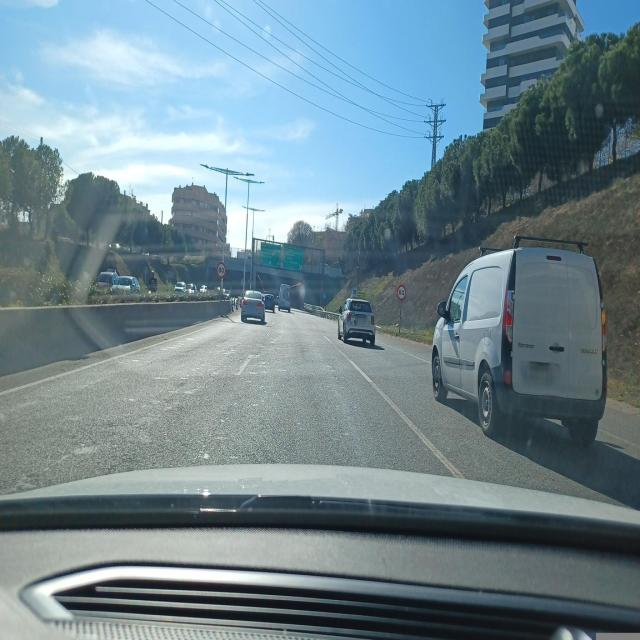car: (431, 236, 608, 446), (337, 296, 376, 346), (240, 289, 266, 324), (114, 274, 140, 292), (94, 270, 119, 288), (263, 293, 276, 313)
